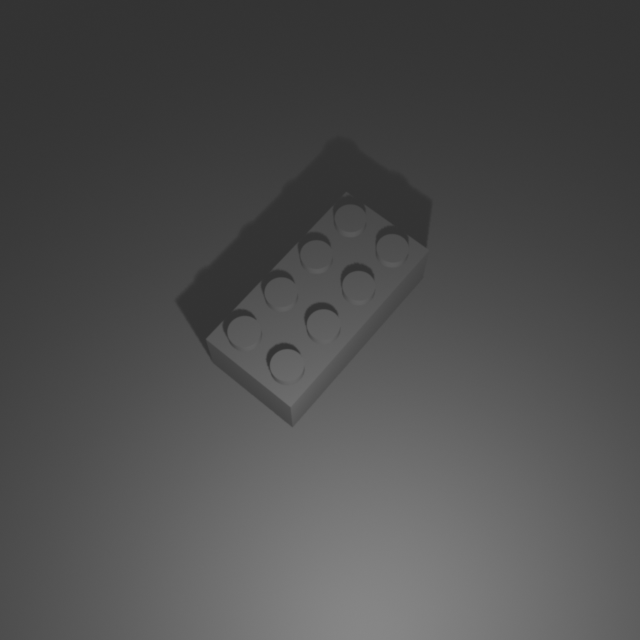lego_2x4: (204, 186, 431, 427)
